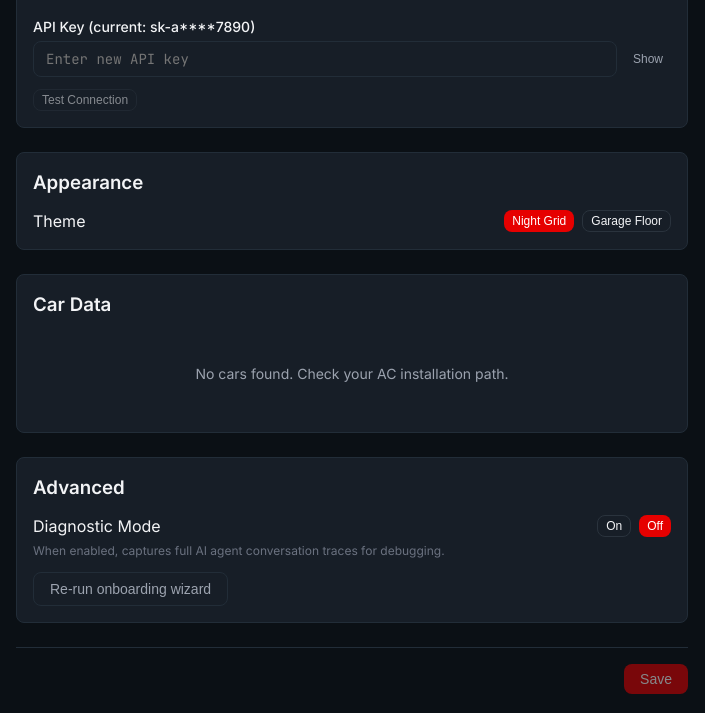
Scenario: SettingsView › diagnostic mode toggle makes form dirty
This screenshot has width=705, height=713.
(page scrolled)
expect the text "Diagnostic Mode" is shown: met, box [33,514,161,538]
expect the button "Save" is disabled: met, box [624,664,688,694]
Click the button "On" at (614, 526), box [597,515,631,537]
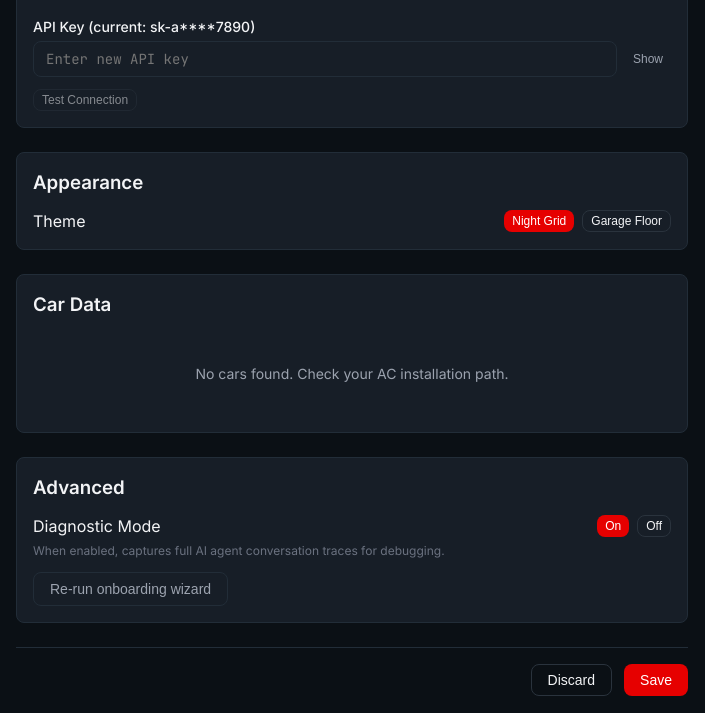
expect the button "Save" is enabled: met, box [624,664,688,696]
